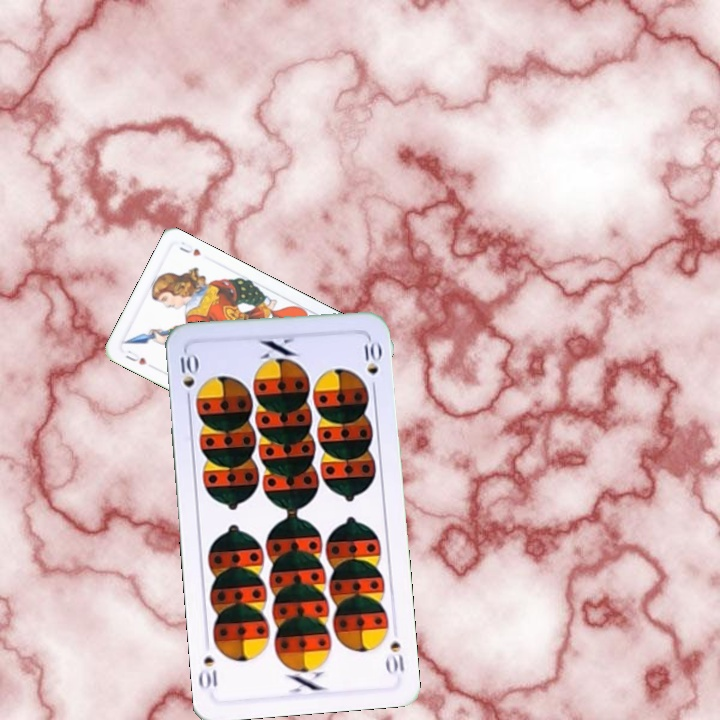HU: (121, 346, 150, 368)
S10: (176, 347, 200, 407), (382, 636, 407, 677)
